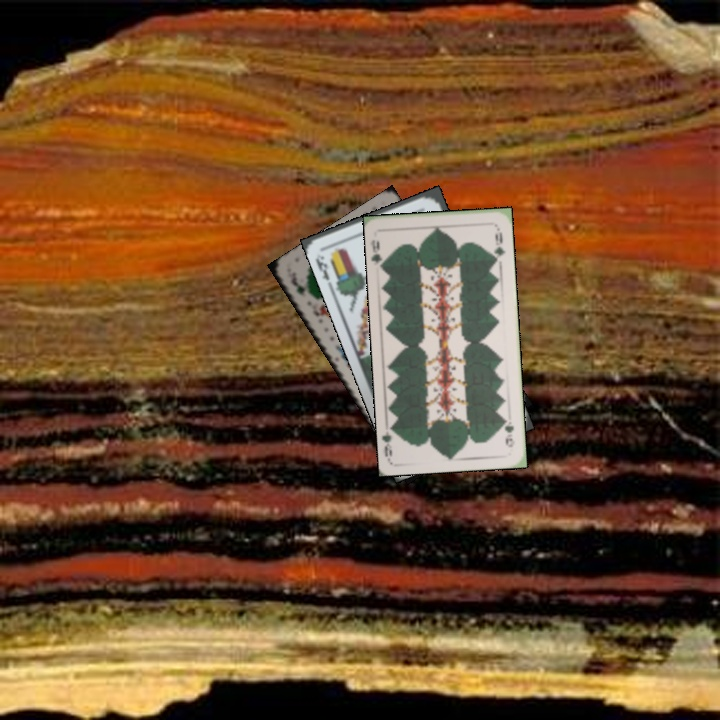EK: (311, 254, 332, 283)
G9: (368, 236, 389, 271), (500, 414, 517, 450)
GK: (290, 280, 314, 300)
